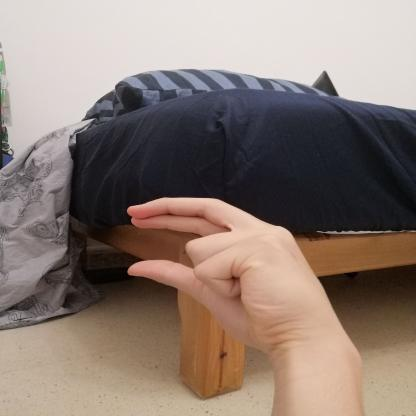DHELL: (109, 186, 352, 363)
